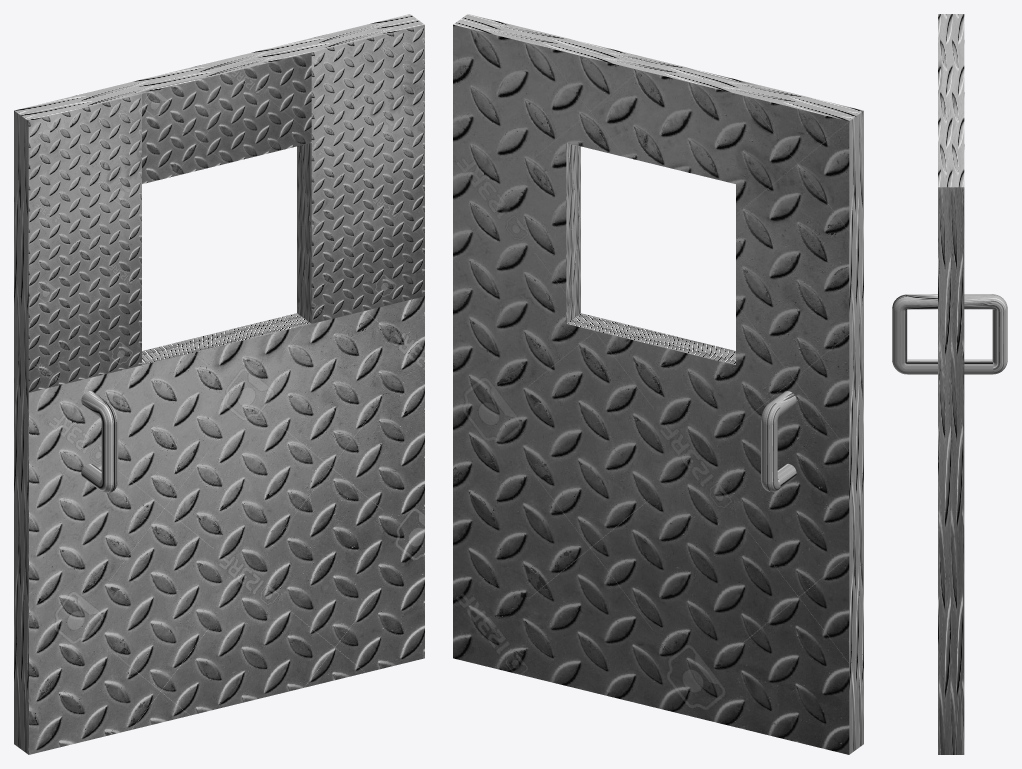
File: puerta_metal.obj
3 views of the same model, side by side, from view 1: azimuth 30°, elevation 25°; view 2: azimuth 150°, elevation 25°; view 3: azimuth 270°, elevation 25° (orthographic). The views are drawn at different scales.
Parts seen in each view (by area): view 1: Cubo.002_Cubo.005; view 2: Cubo.002_Cubo.005; view 3: Cubo.002_Cubo.005.
Boxes of the visible parts, bbox=[...] form: Cubo.002_Cubo.005: bbox=[14, 14, 424, 754]; Cubo.002_Cubo.005: bbox=[453, 14, 863, 754]; Cubo.002_Cubo.005: bbox=[892, 14, 1007, 754].
Size of the model in its own units: 1.56 by 2.38 by 0.4385.
